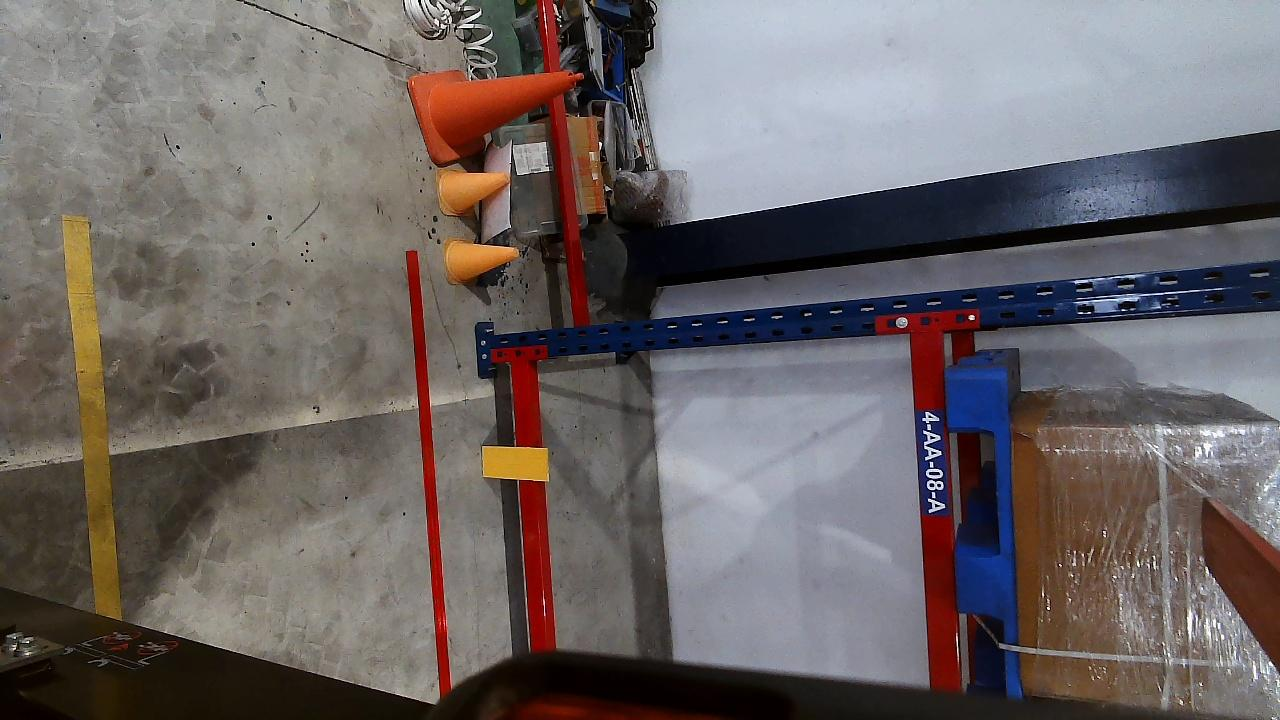h_rack: (907, 327, 963, 689), (508, 359, 556, 650)
orange_strip: (481, 446, 548, 480)
red_line: (409, 249, 452, 692)
small_pallet: (947, 365, 1019, 685)
yellow_line: (58, 215, 120, 619)
